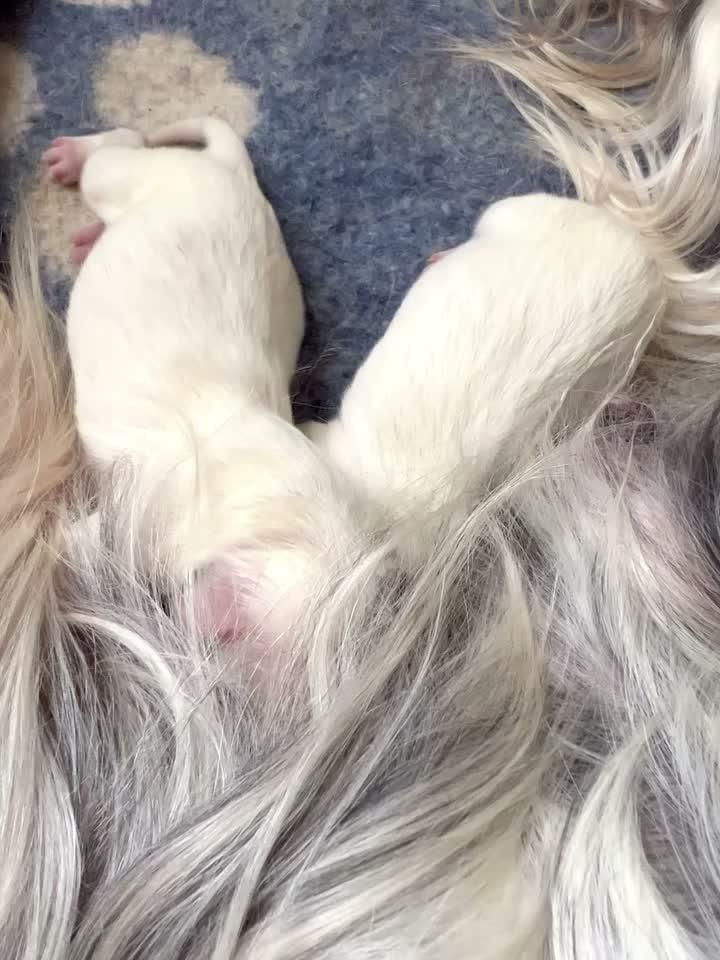adult_dog: (0, 0, 720, 960)
puppy-dog: (40, 115, 357, 669), (297, 187, 667, 545)
